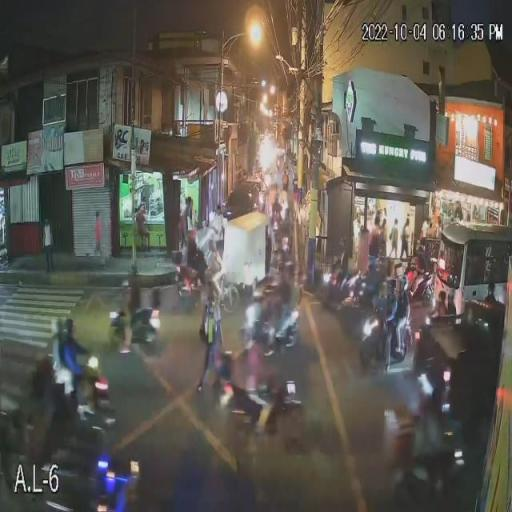helmet: (265, 279, 280, 292), (66, 318, 78, 334), (52, 318, 64, 334), (417, 284, 428, 298), (376, 278, 388, 290), (406, 256, 416, 268)
motorcycle: (382, 366, 468, 492), (36, 350, 112, 431), (218, 367, 306, 431), (239, 301, 300, 369), (357, 301, 414, 373), (108, 300, 161, 350), (321, 269, 362, 318), (199, 286, 226, 346), (406, 267, 438, 316), (174, 255, 204, 304)
rider: (229, 326, 275, 434), (410, 336, 450, 430), (246, 278, 292, 349), (51, 316, 90, 396), (374, 276, 408, 363), (172, 248, 202, 294), (405, 255, 430, 305)
